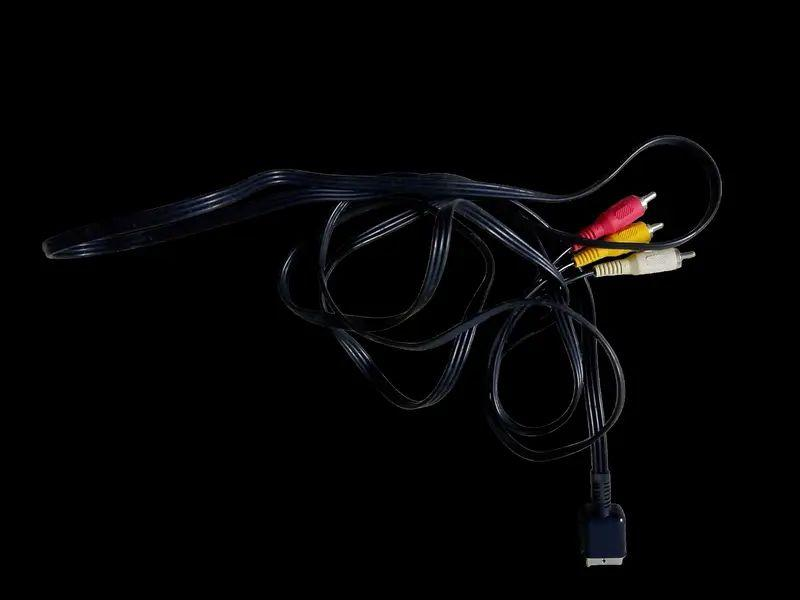electronic: (30, 125, 738, 577)
